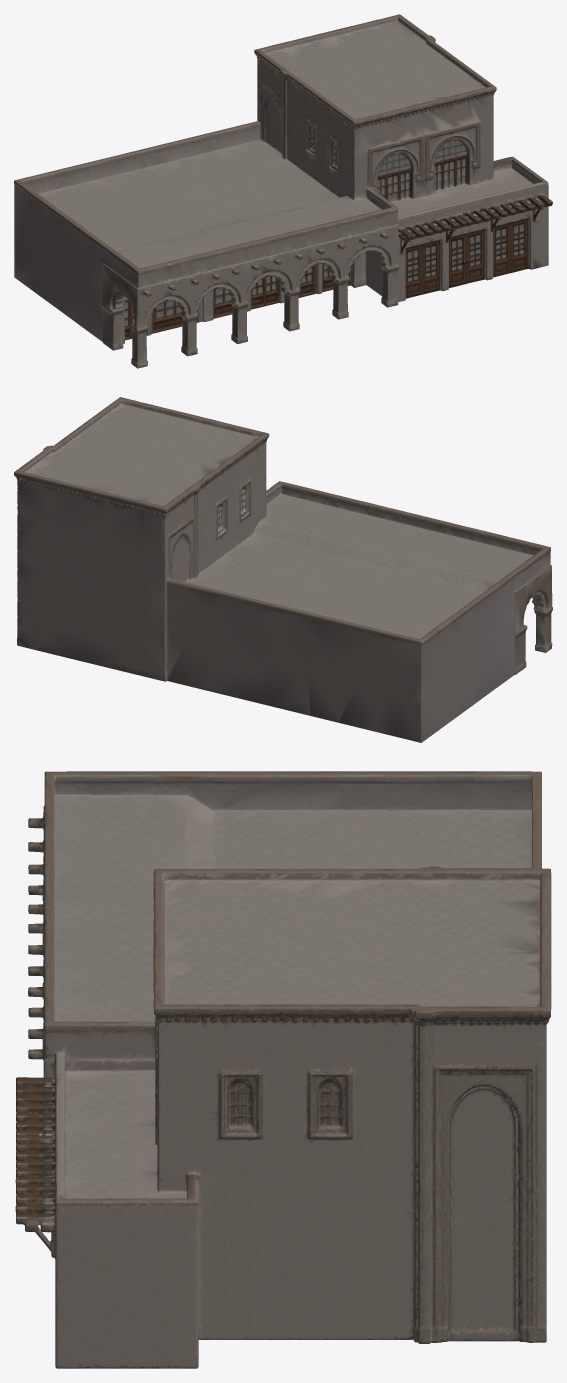
File: arcade.glb
3 renders of one model, top to bottom at view 1: azimuth 30°, elevation 25°; view 2: azimuth 150°, elevation 25°; view 3: azimuth 270°, elevation 25°, orthographic. The views are drawn at different scales.
Visible parts, largest first — view 1: mesh_node; view 2: mesh_node; view 3: mesh_node.
Boxes of the visible parts, x1,y1,x2,y2 form: mesh_node: [14, 14, 552, 368]; mesh_node: [14, 397, 552, 742]; mesh_node: [15, 771, 551, 1368].
Size of the model in its own units: 1.9 by 0.7328 by 1.06.
1 material, 1 textured.
